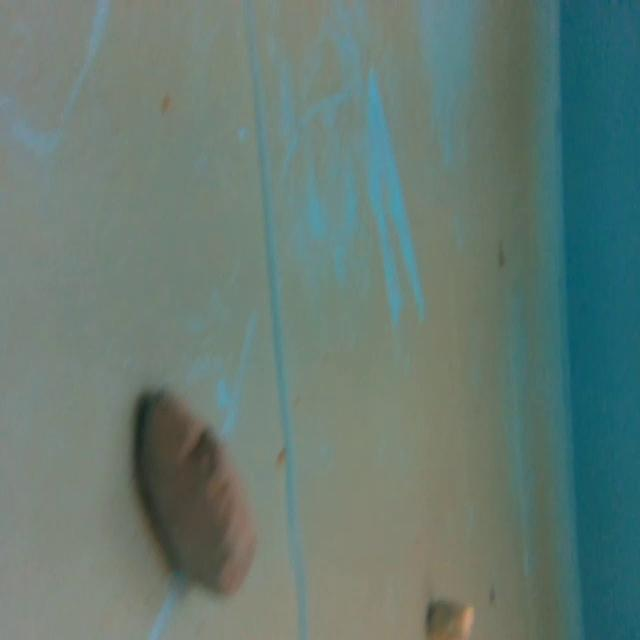rock: (131, 380, 259, 602), (423, 597, 480, 640)
